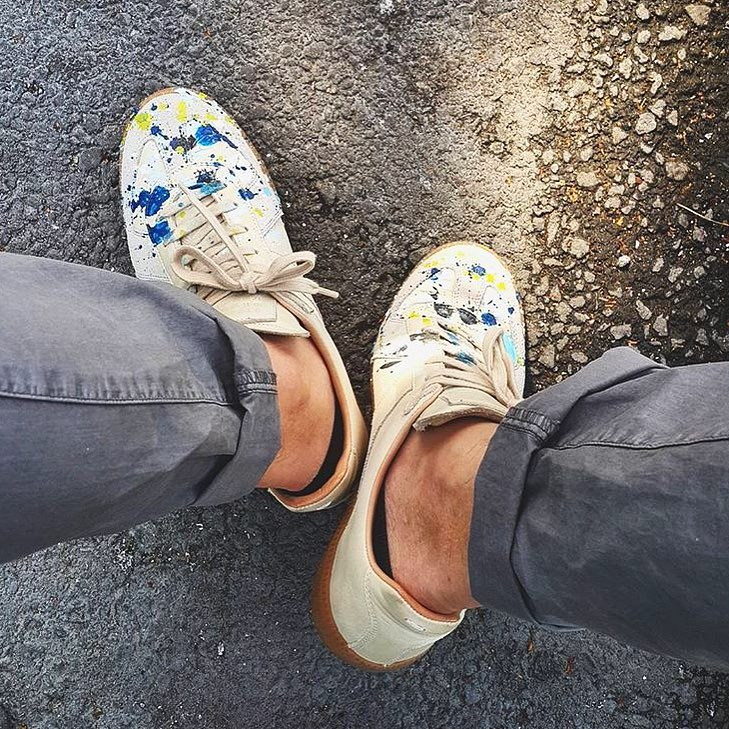sneaker: (69, 61, 380, 531), (310, 207, 592, 688)
